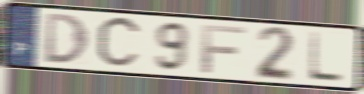2: (255, 24, 296, 83)
9: (153, 20, 192, 74)
C: (94, 14, 145, 72)
D: (43, 11, 91, 65)
F: (200, 23, 249, 75)
L: (306, 30, 346, 85)
